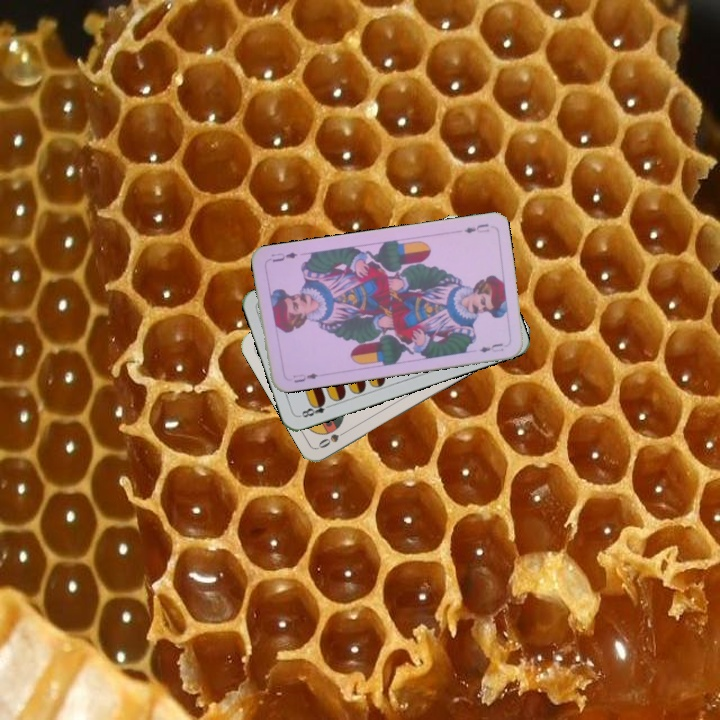E8: (296, 396, 335, 420)
EU: (289, 369, 321, 385), (461, 220, 492, 236)
SO: (314, 425, 352, 451)
